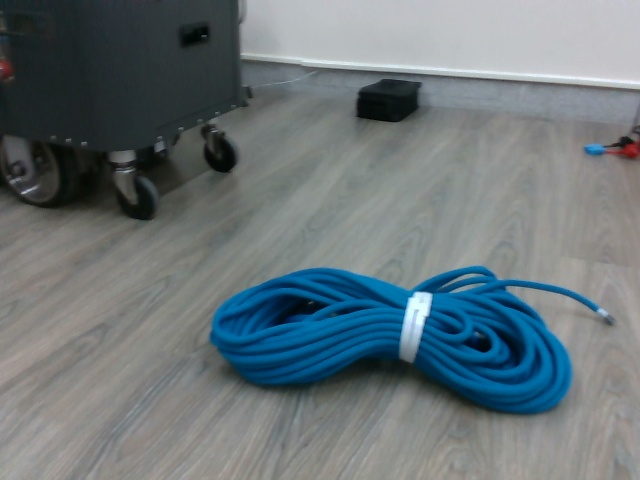rope: (207, 261, 622, 420)
